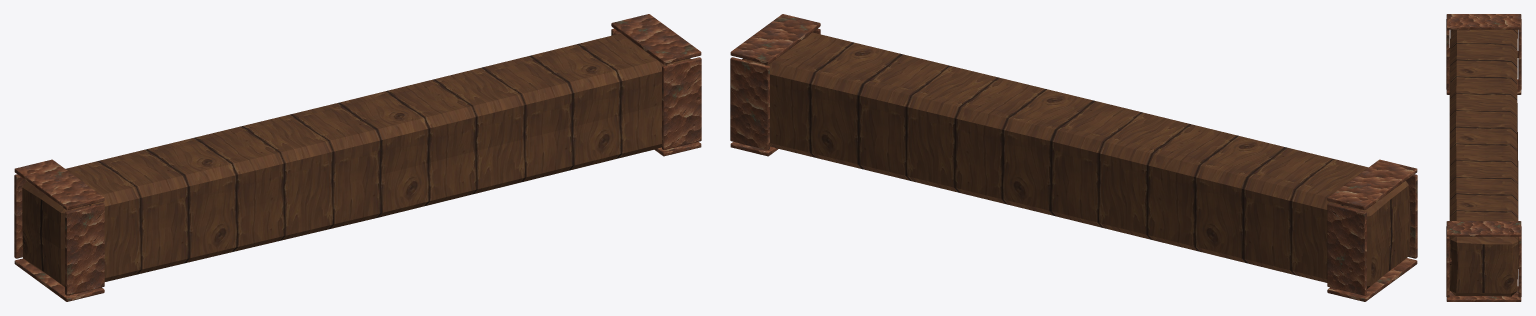
The model's file is beam__cut_stone.glb.
3 renders of one model, left to right at view 1: azimuth 30°, elevation 25°; view 2: azimuth 150°, elevation 25°; view 3: azimuth 270°, elevation 25°, orthographic. The views are drawn at different scales.
Parts seen in each view (by area): view 1: model; view 2: model; view 3: model.
Boxes of the visible parts, x1,y1,x2,y2 form: model: (14, 14, 701, 301); model: (730, 14, 1417, 301); model: (1446, 14, 1521, 301).
Bounding box in the file's own units: 1.98 × 0.286 × 0.286.
Materials: 3 (3 with a texture image).
